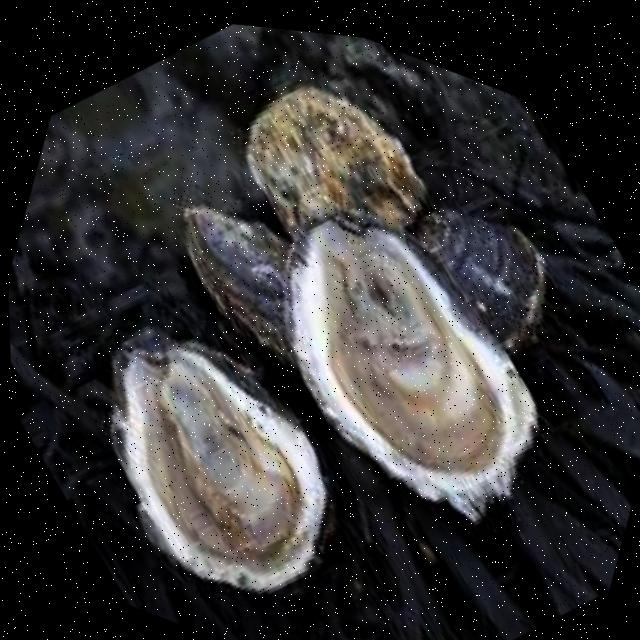Oyster-Closed: (155, 191, 334, 368)
Oyster-Indeterminate: (221, 62, 450, 287), (391, 187, 565, 365)
Oyster-Open: (243, 187, 579, 541), (57, 304, 375, 627)
